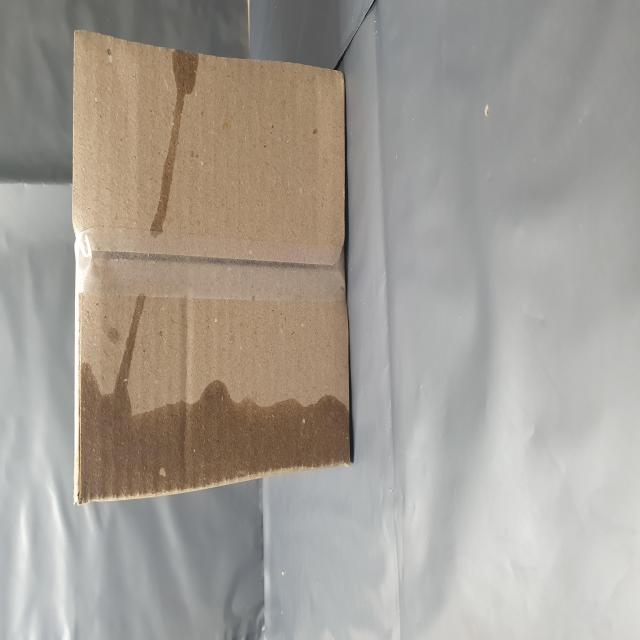wet: (77, 121, 198, 598)
